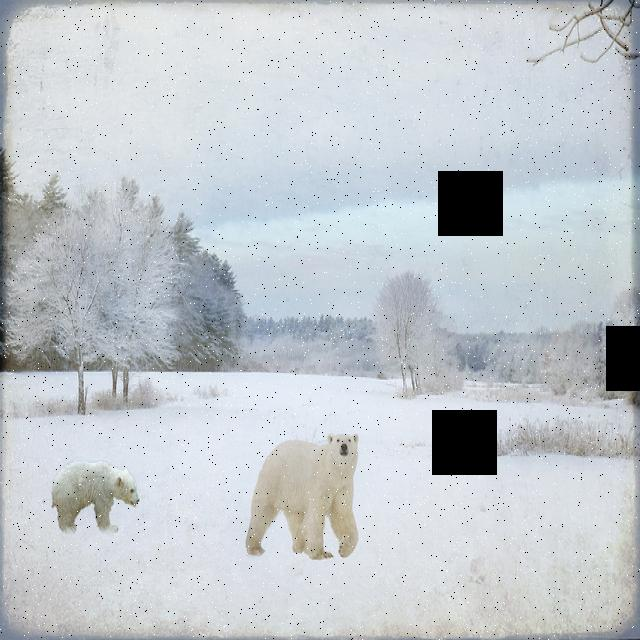Bear: (247, 432, 366, 561), (47, 465, 143, 540)
